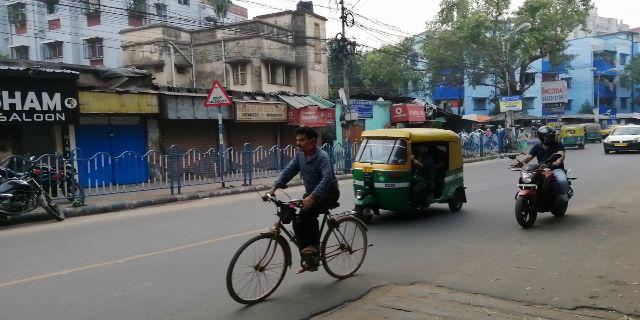Autorickshaw: (360, 131, 471, 216)
Car: (603, 125, 639, 152)
Cycle: (220, 123, 373, 303)
Motorbike: (508, 125, 578, 231)
